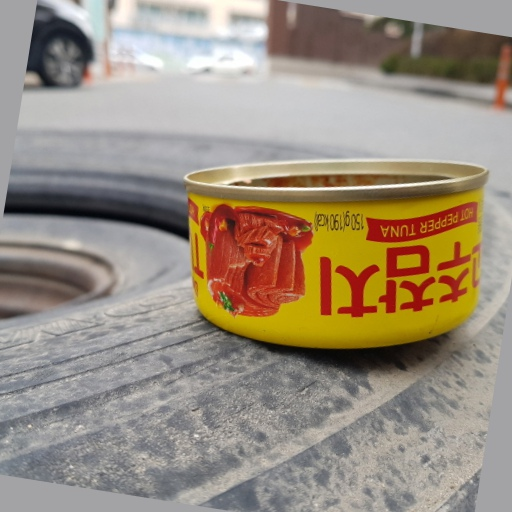Metal_1: (181, 157, 490, 350)
